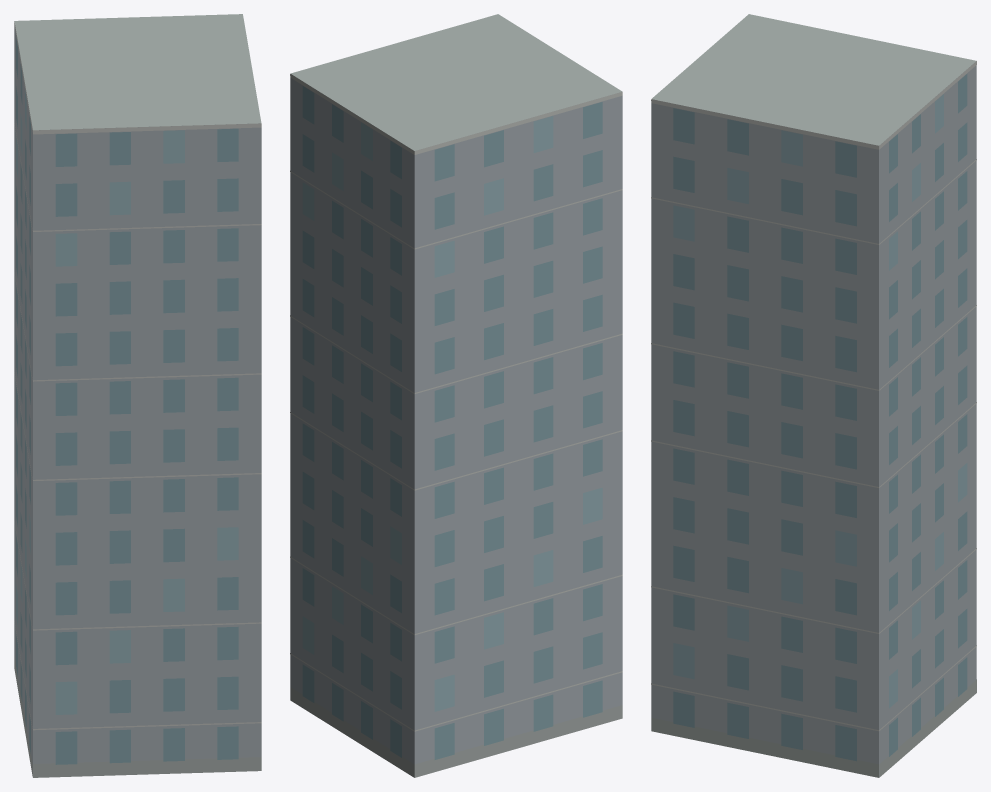
File: residential-aa071f2c-0484-4863-a857-8ca510165c26.glb
3 views of the same model, side by side, from view 1: azimuth 30°, elevation 25°; view 2: azimuth 150°, elevation 25°; view 3: azimuth 270°, elevation 25° (orthographic). The views are drawn at different scales.
Parts seen in each view (by area): view 1: residential-aa071f2c-0484-4863-a857-8ca510165c26.tmp; view 2: residential-aa071f2c-0484-4863-a857-8ca510165c26.tmp; view 3: residential-aa071f2c-0484-4863-a857-8ca510165c26.tmp.
Boxes of the visible parts, x1,y1,x2,y2 form: residential-aa071f2c-0484-4863-a857-8ca510165c26.tmp: [14, 14, 261, 777]; residential-aa071f2c-0484-4863-a857-8ca510165c26.tmp: [290, 14, 622, 777]; residential-aa071f2c-0484-4863-a857-8ca510165c26.tmp: [651, 14, 976, 777].
Size of the model in its own units: 17.01 by 38 by 17.76.
